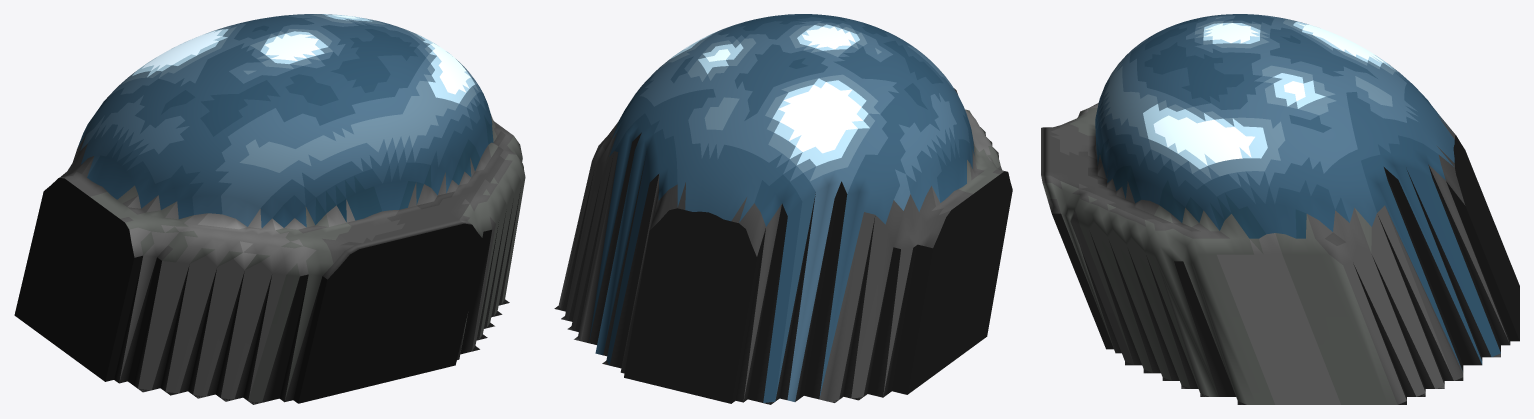
Rendered from crater_dome_167.glb.
3 renders of one model, left to right at view 1: azimuth 30°, elevation 25°; view 2: azimuth 150°, elevation 25°; view 3: azimuth 270°, elevation 25°, orthographic. The views are drawn at different scales.
Visible parts, largest first — view 1: crater_dome_167; view 2: crater_dome_167; view 3: crater_dome_167.
Boxes of the visible parts, left/top/right/bottom form: crater_dome_167: left=14, top=14, right=525, bottom=404; crater_dome_167: left=554, top=14, right=1012, bottom=404; crater_dome_167: left=1041, top=14, right=1519, bottom=404.
Bounding box in the file's own units: 23 × 16.1 × 25.46.
